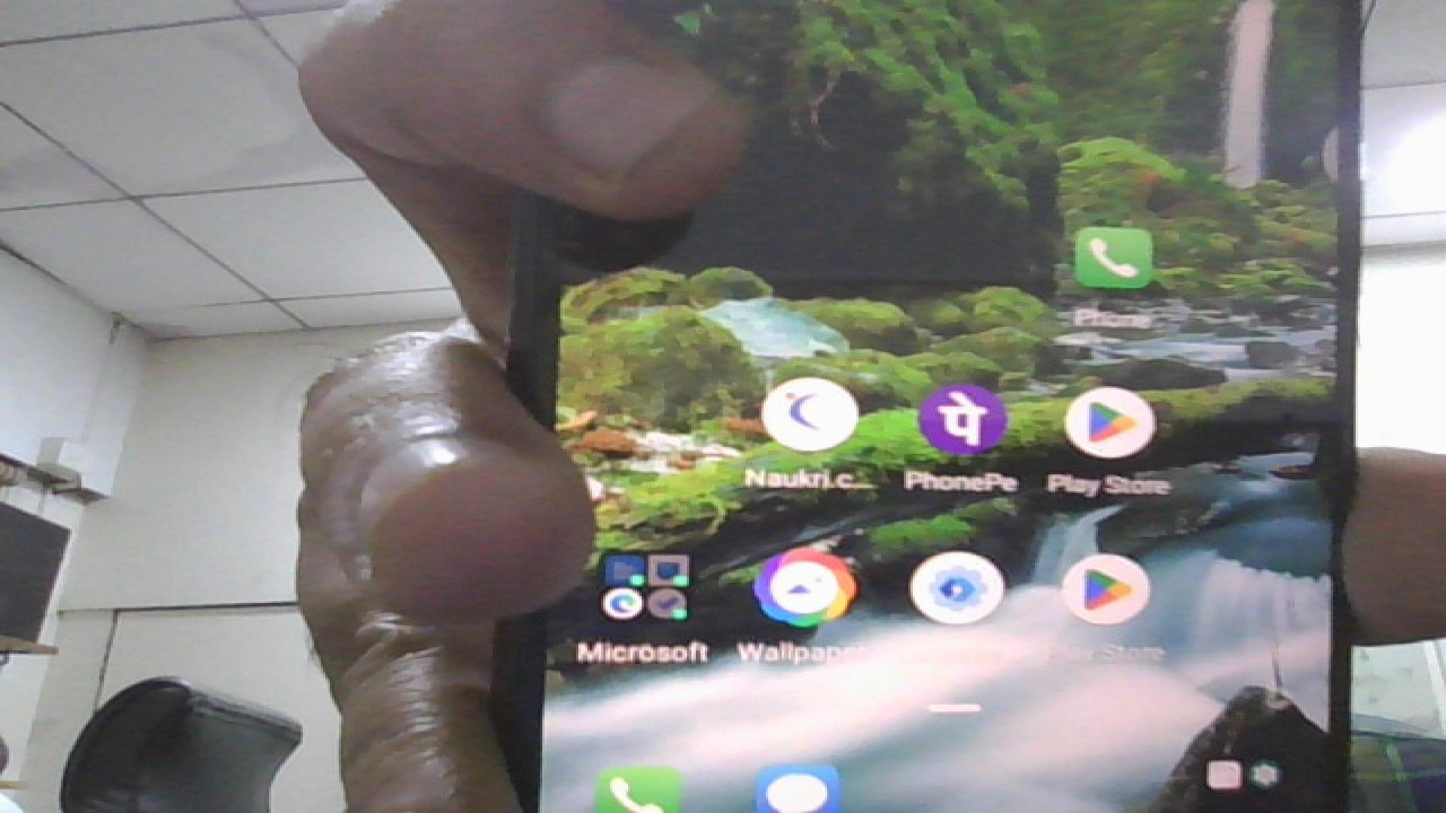phone: (520, 4, 1373, 813)
